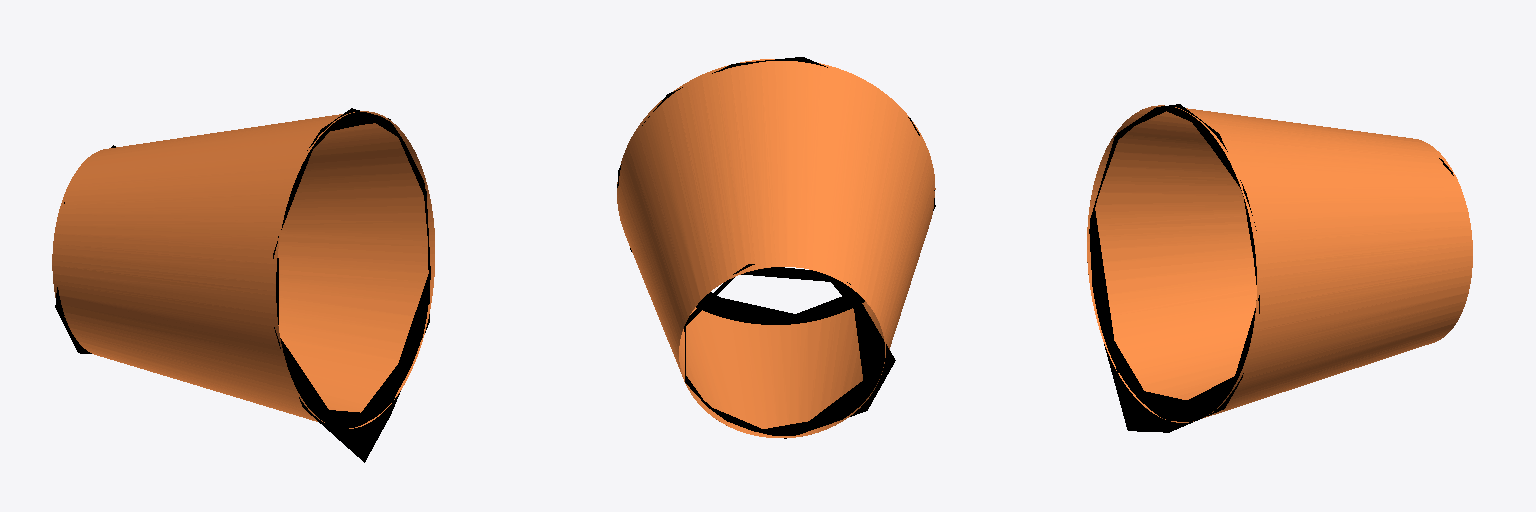
The model's file is lamp-top.obj.
3 views of the same model, side by side, from view 1: azimuth 30°, elevation 25°; view 2: azimuth 150°, elevation 25°; view 3: azimuth 270°, elevation 25° (orthographic).
Parts seen in each view (by area): view 1: Circle.004; view 2: Circle.004; view 3: Circle.004.
Part boxes in pixels (x1,y1,x2,y2): Circle.004: (52, 108, 434, 462); Circle.004: (617, 57, 935, 438); Circle.004: (1087, 104, 1472, 432).
Bounding box in the file's own units: 2.59 × 2.39 × 2.63.